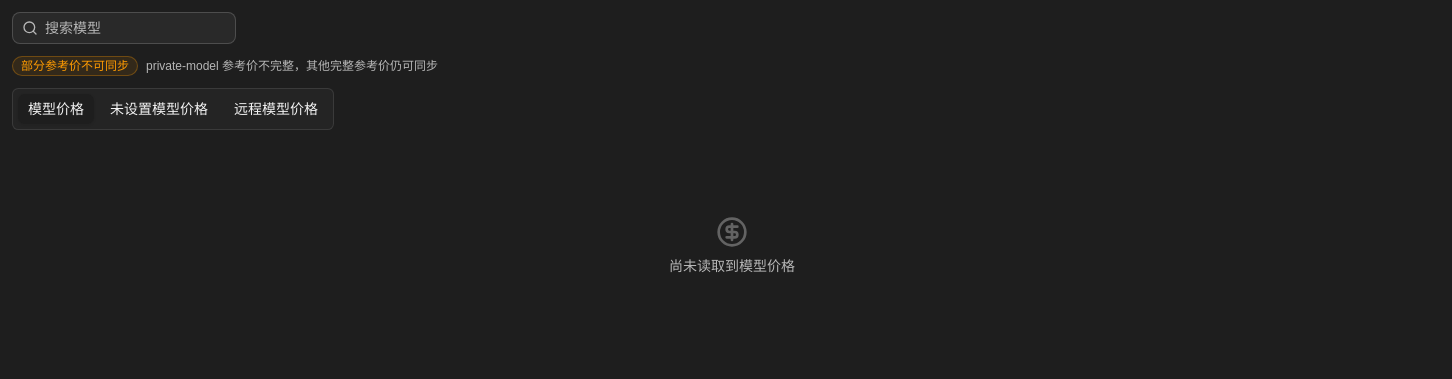
Test case: 部分参考价缺失时只禁用受影响模型的直接写入，完整模型仍可写入
Click the tab "远程模型价格" at (276, 109), box [223, 93, 329, 125]
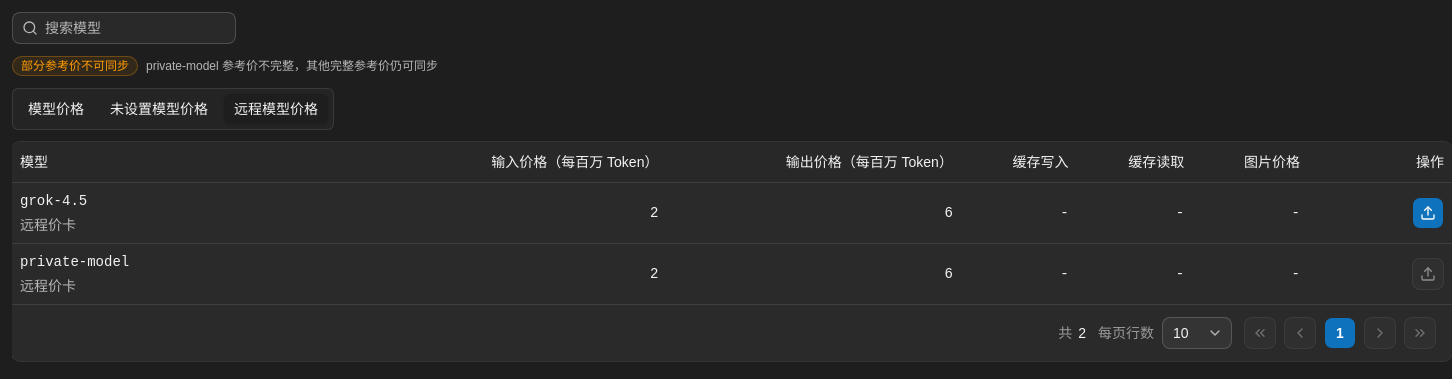
Expected: the text "部分参考价不可同步" is shown, [21, 57, 129, 75]
Expected: the button named "写入平台 private-model" is disabled, [1412, 258, 1444, 290]
Expected: the button named "写入平台 grok-4.5" is enabled, [1412, 196, 1444, 228]
